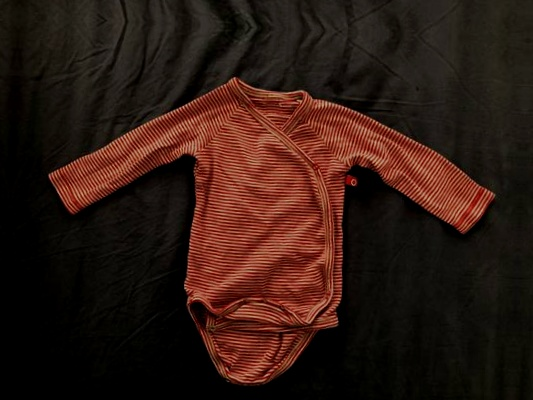Body: (25, 52, 513, 393), (43, 0, 531, 5), (526, 76, 533, 400)
